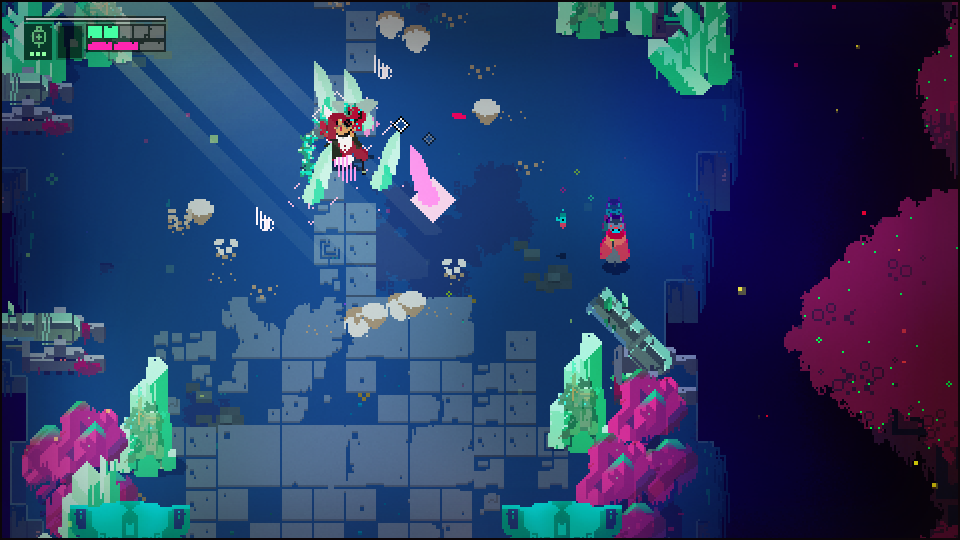hanged_crys: (407, 146, 449, 211), (367, 127, 409, 192), (300, 57, 342, 122), (297, 142, 339, 207)
hanged_man: (300, 111, 371, 178)
player: (599, 214, 633, 274)
